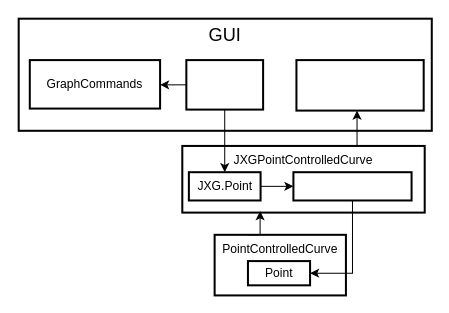
This 449x313 diagram has some shape labels left out. Here are the shapes that lost their labels. From the top down, the centre of each, then its label:
point (224, 84): JSXGraph
point (359, 85): CurveCommands
point (352, 186): JXGPointWrapper
